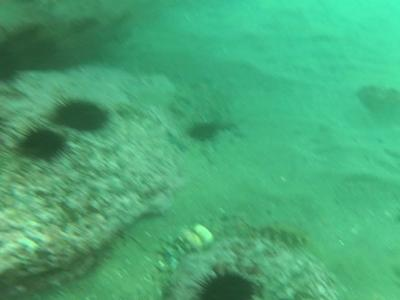urchin: (18, 125, 68, 164), (53, 100, 111, 133), (192, 268, 259, 296)
